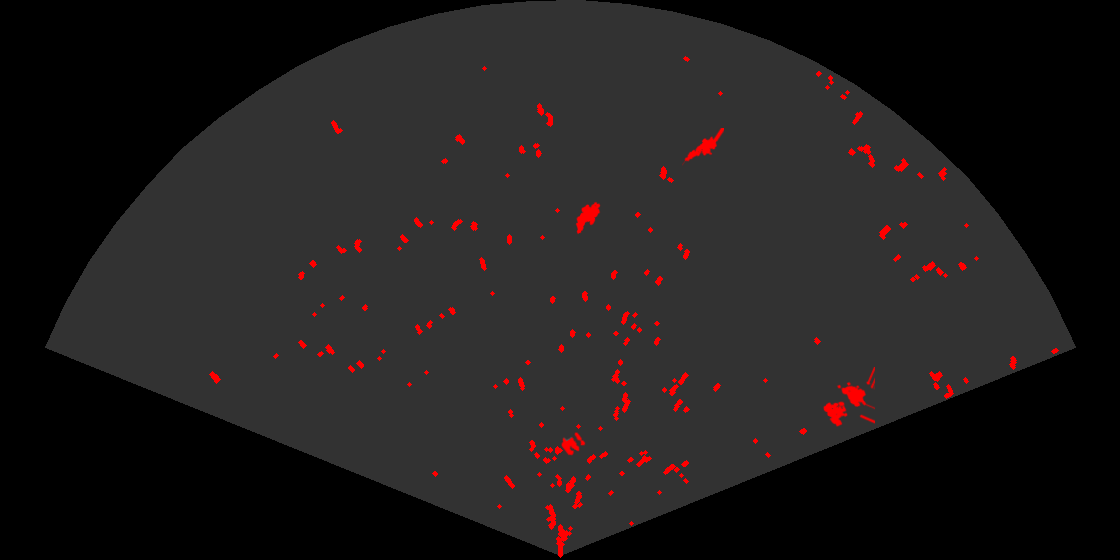AUV: (574, 200, 602, 236)
ball: (560, 431, 587, 457)
cage: (822, 367, 875, 428)
frogman: (682, 128, 724, 167)
